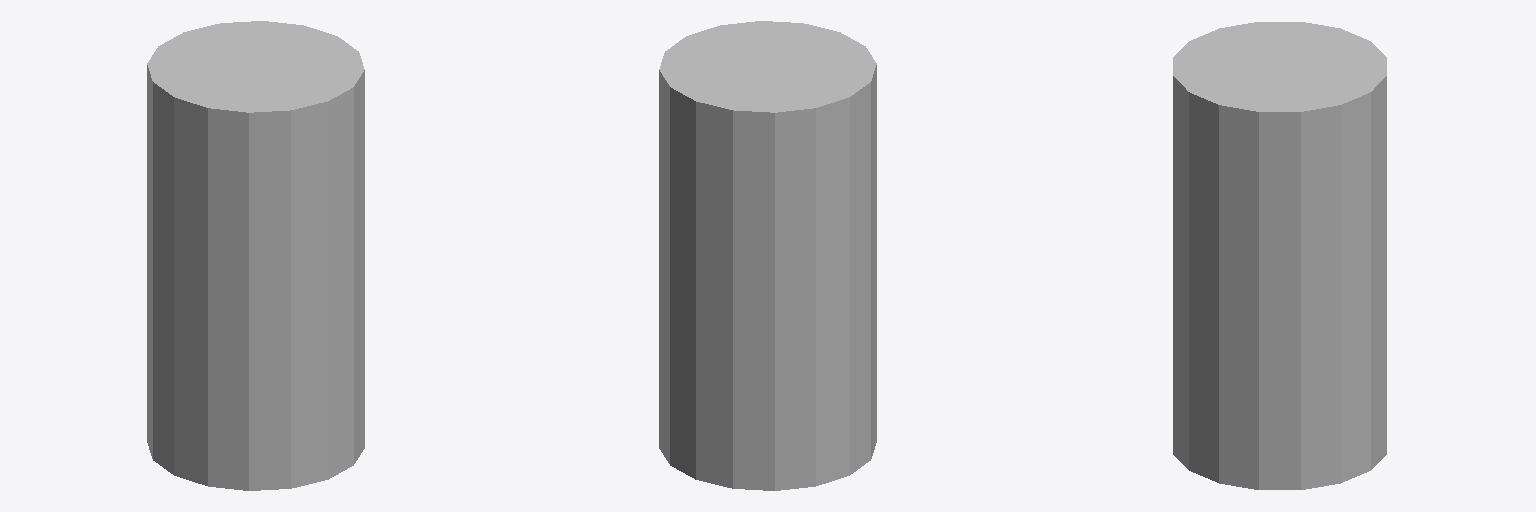
The model's file is Arrow_LFO_A_Collider.obj.
3 views of the same model, side by side, from view 1: azimuth 30°, elevation 25°; view 2: azimuth 150°, elevation 25°; view 3: azimuth 270°, elevation 25° (orthographic).
Visible parts, largest first — view 1: Arrow_LFO_A_Collider; view 2: Arrow_LFO_A_Collider; view 3: Arrow_LFO_A_Collider.
Boxes of the visible parts, x1,y1,x2,y2 form: Arrow_LFO_A_Collider: [147, 21, 364, 490]; Arrow_LFO_A_Collider: [659, 21, 876, 490]; Arrow_LFO_A_Collider: [1173, 22, 1386, 489].
Bounding box in the file's own units: 1.25 × 2.44 × 1.25.